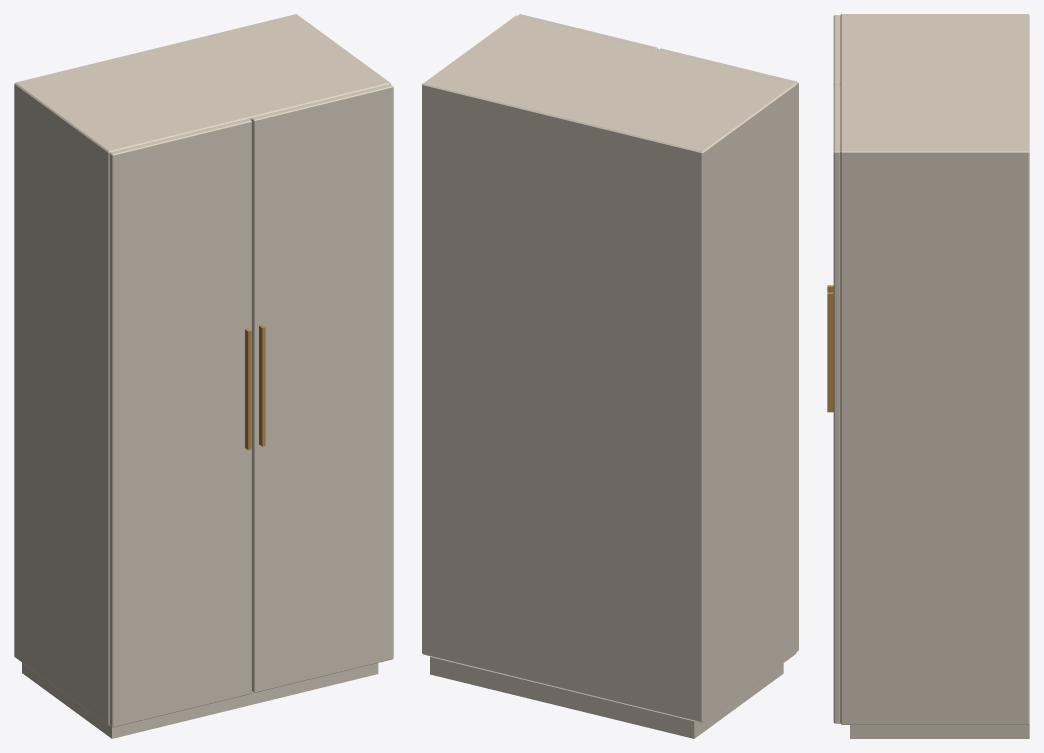
Rendered from wardrobe.glb.
3 views of the same model, side by side, from view 1: azimuth 30°, elevation 25°; view 2: azimuth 150°, elevation 25°; view 3: azimuth 270°, elevation 25° (orthographic).
Parts seen in each view (by area): view 1: wardrobe; view 2: wardrobe; view 3: wardrobe.
Part boxes in pixels (x1,y1,x2,y2): wardrobe: [14, 14, 393, 738]; wardrobe: [422, 14, 798, 738]; wardrobe: [827, 14, 1029, 738].
Size of the model in its own units: 1 by 2 by 0.62.
